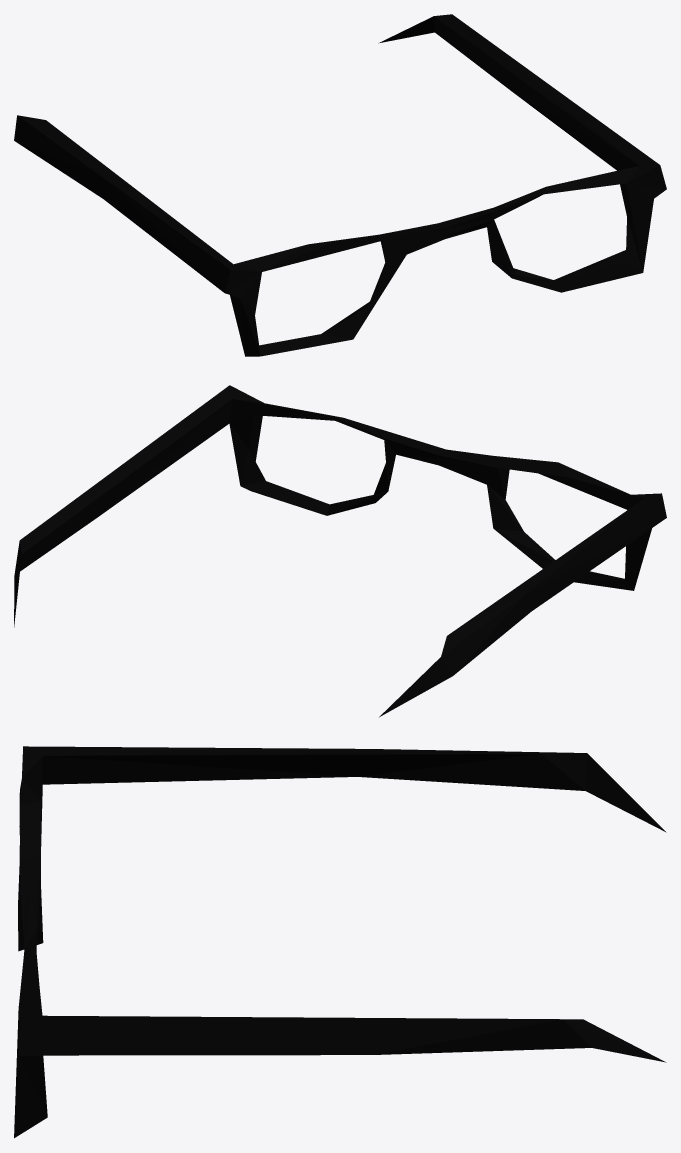
The model's file is glasses.fbx.
The picture shows the model from 3 angles, top to bottom: view 1: azimuth 30°, elevation 25°; view 2: azimuth 150°, elevation 25°; view 3: azimuth 270°, elevation 25°; orthographic projection. The views are drawn at different scales.
Visible parts, largest first — view 1: glasses; view 2: glasses; view 3: glasses.
Boxes of the visible parts, <box> form: glasses: <box>14,14,666,356</box>; glasses: <box>14,385,666,717</box>; glasses: <box>14,746,666,1138</box>.
Size of the model in its own units: 0.2842 by 0.0664 by 0.2793.
Materials: 1 (1 with a texture image).
